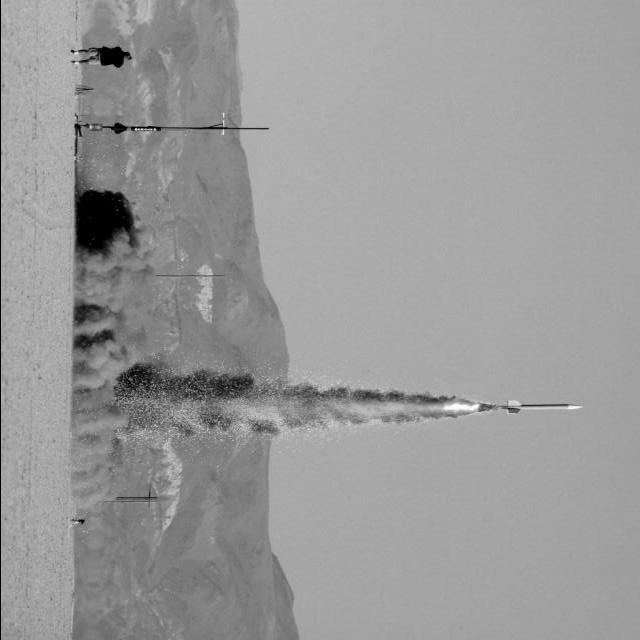missile: (105, 120, 193, 137), (504, 401, 583, 415)
